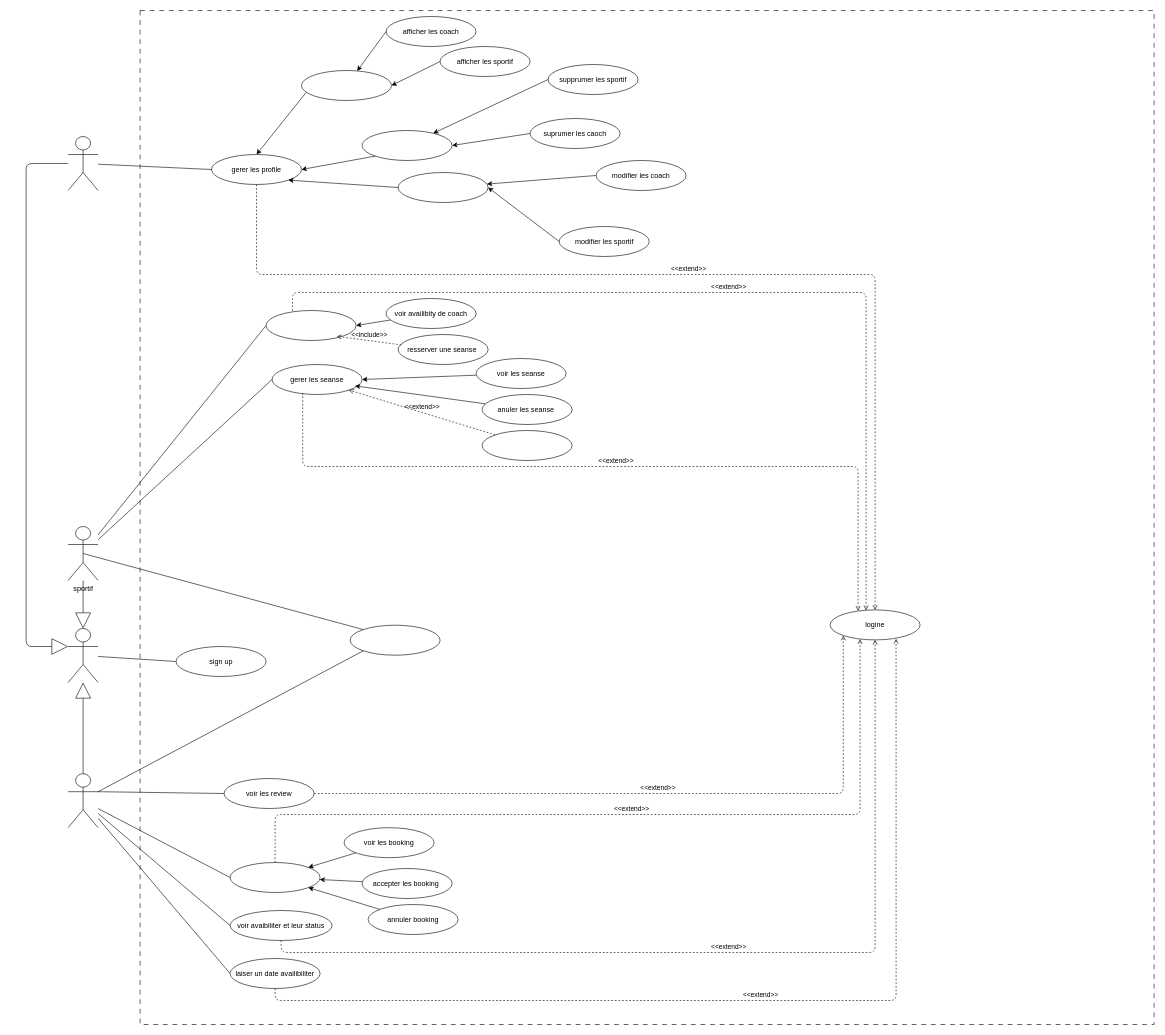
The diagram is 1165 pixels wide and 1035 high, and some of its shapes have lost their labels. Each missing label, with the box of its shape:
admin: (68, 136, 98, 190)
afficher es coach: (266, 310, 356, 340)
afficher les profile: (301, 70, 392, 100)
coach: (68, 773, 98, 828)
gerer les booking demander: (230, 862, 320, 892)
modifier les profile: (398, 172, 488, 202)
review the coach: (482, 430, 572, 460)
se de conecter: (350, 625, 440, 655)
supprumer les profile: (362, 130, 452, 160)
utulusateur: (68, 628, 98, 682)
